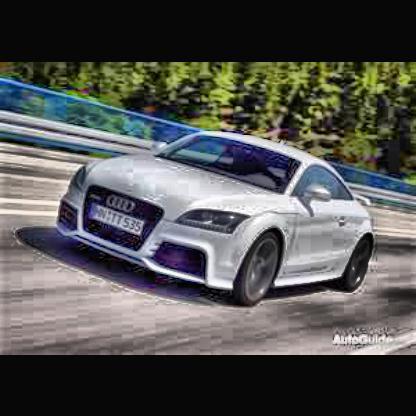Audi TT RS Coupe 2012: (55, 129, 382, 312)
